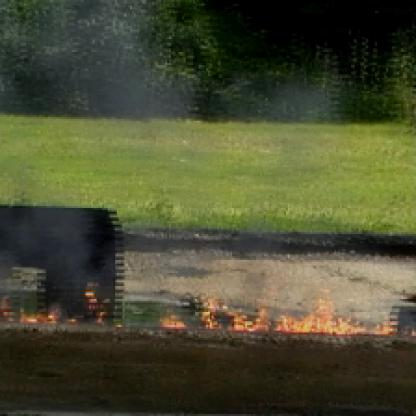Fire: (160, 286, 399, 336), (2, 262, 124, 329)
Smoke: (2, 2, 180, 269)
